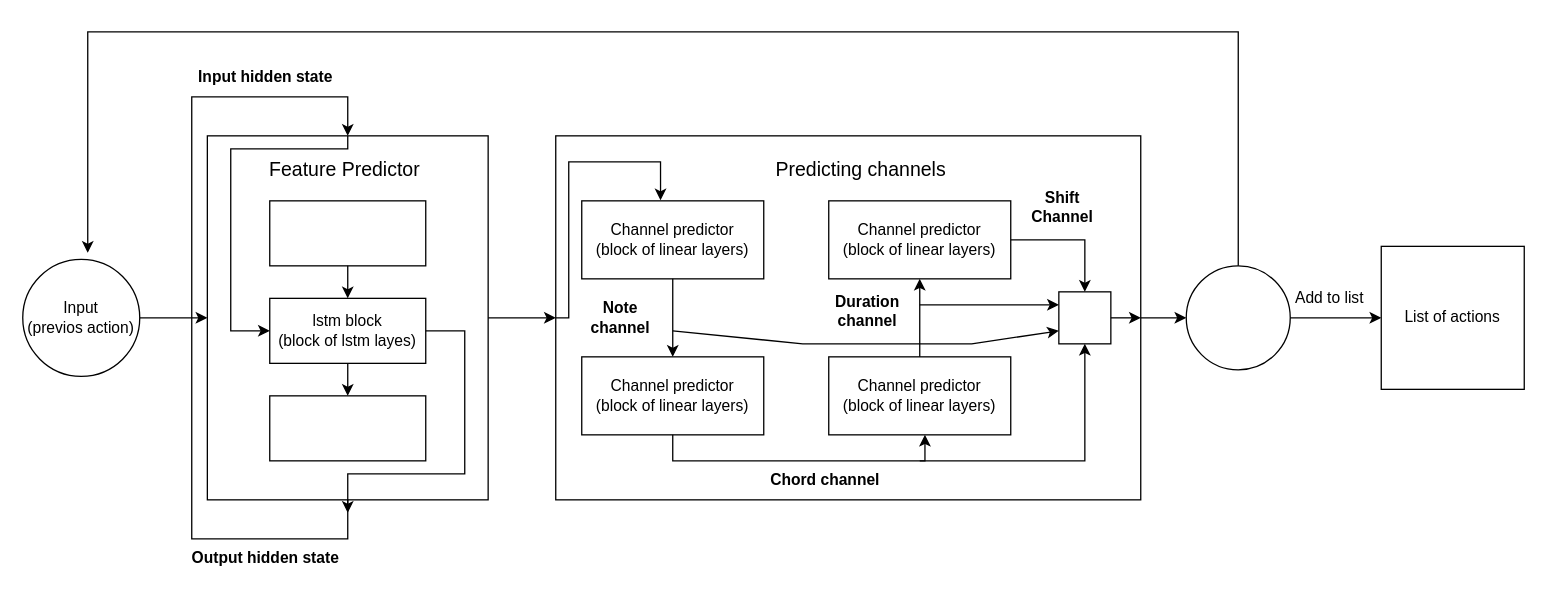
Image size: 1547x601. Some labels were removed from this diagram. Here are the shapes that lost their labels. From the top down, the box of each, then its label:
(268, 200, 426, 266): feature layer (block of linear layers)
(1058, 291, 1111, 344): Concat
(1185, 265, 1290, 370): Output (next action)
(268, 395, 426, 461): output layer (block of linear layers)
